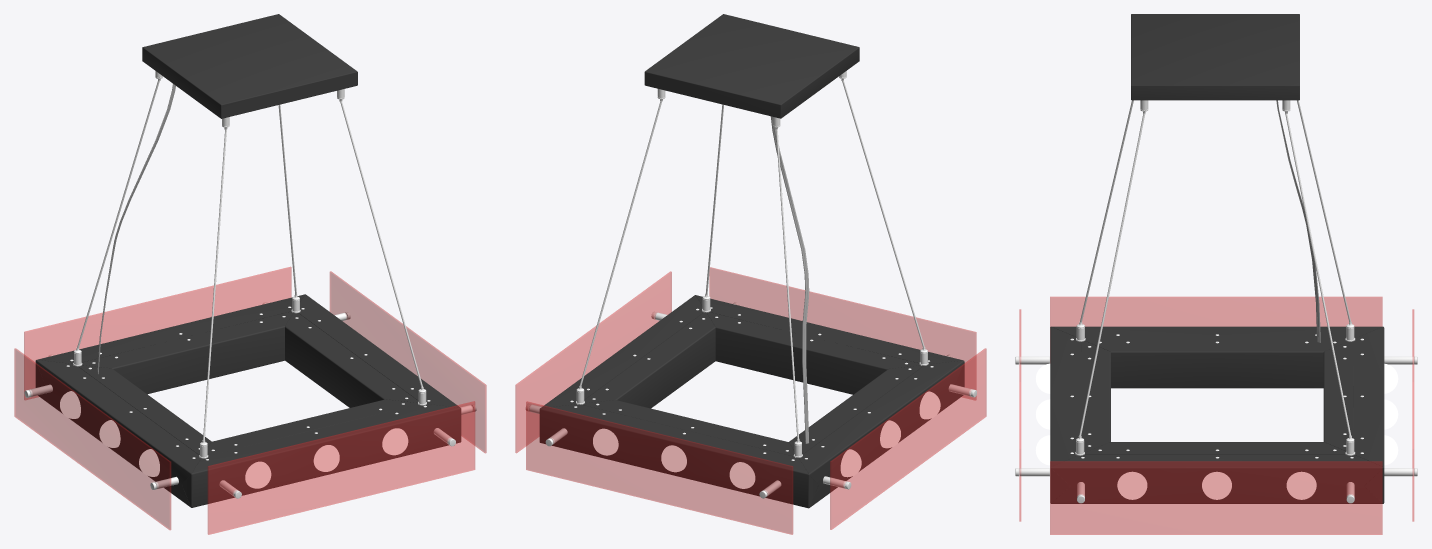
3 renders of one model, left to right at view 1: azimuth 30°, elevation 25°; view 2: azimuth 150°, elevation 25°; view 3: azimuth 270°, elevation 25°, orthographic. The views are drawn at different scales.
Visible parts, largest first — view 1: 3DSMeshMatrix (×10), Object_2; view 2: 3DSMeshMatrix (×10), Object_2; view 3: 3DSMeshMatrix (×9), Object_2.
Part boxes in pixels (box(x1,y1,x2,y2)): 3DSMeshMatrix (×10): box(14, 14, 486, 534); Object_2: box(35, 294, 461, 507); 3DSMeshMatrix (×10): box(515, 14, 986, 534); Object_2: box(539, 295, 964, 508); 3DSMeshMatrix (×9): box(1035, 14, 1398, 534); Object_2: box(1050, 326, 1384, 503).
Size of the model in its own units: 0.8842 by 0.9851 by 0.8917.
